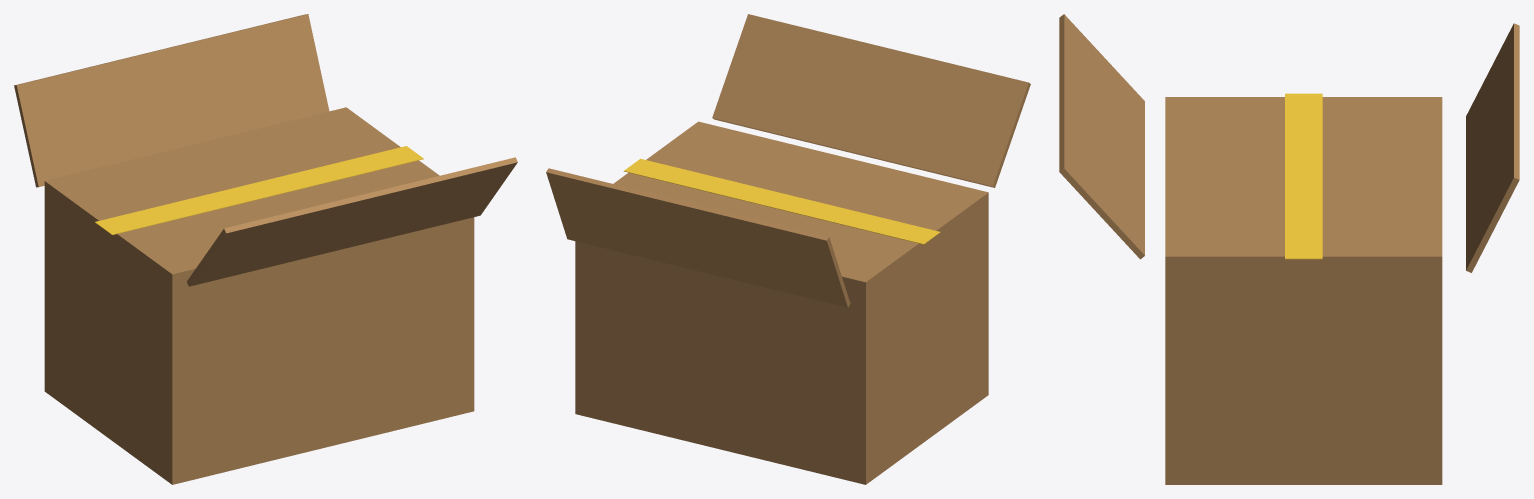
Rendered from CardboardBox.fbx.
3 renders of one model, left to right at view 1: azimuth 30°, elevation 25°; view 2: azimuth 150°, elevation 25°; view 3: azimuth 270°, elevation 25°, orthographic. The views are drawn at different scales.
Visible parts, largest first — view 1: CardboardBox; view 2: CardboardBox; view 3: CardboardBox.
Part boxes in pixels (x1,y1,x2,y2): CardboardBox: (14, 14, 517, 484); CardboardBox: (546, 14, 1030, 484); CardboardBox: (1059, 14, 1519, 484).
Size of the model in its own units: 0.62 by 0.5498 by 0.7307.
